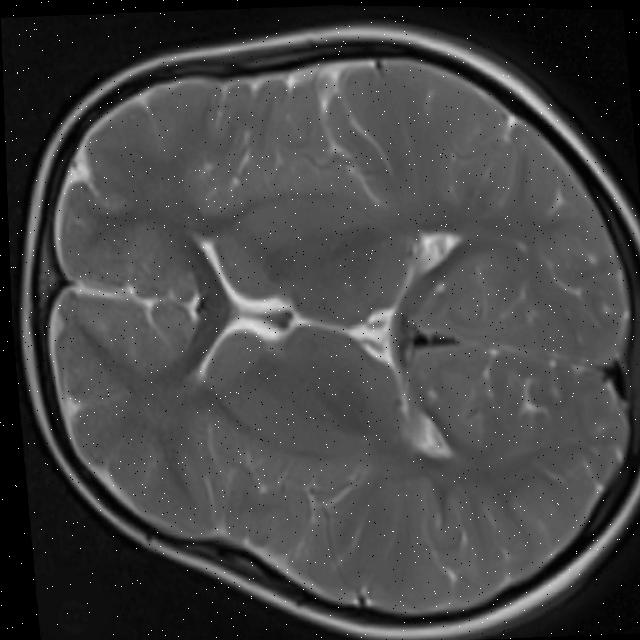NoTumor: (0, 3, 640, 640)
